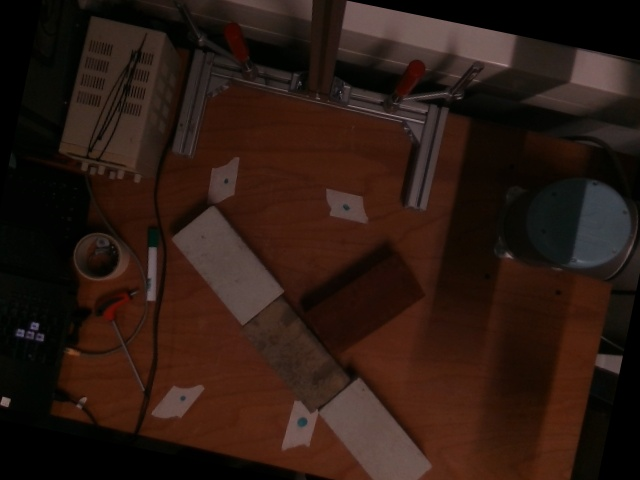brick: (303, 252, 424, 356), (172, 206, 279, 321), (242, 299, 349, 414), (320, 380, 427, 479)
